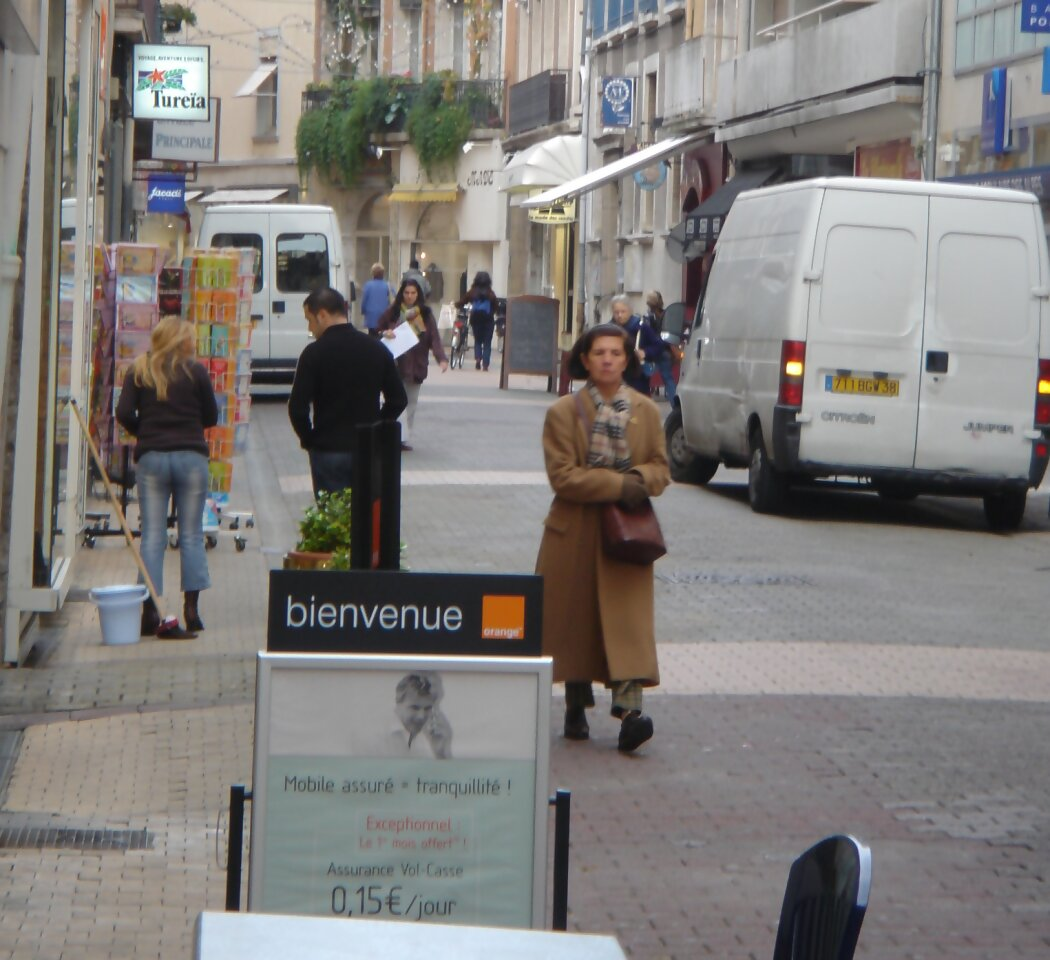person: (538, 324, 682, 763), (119, 310, 241, 638), (288, 287, 403, 532), (376, 276, 454, 448)
